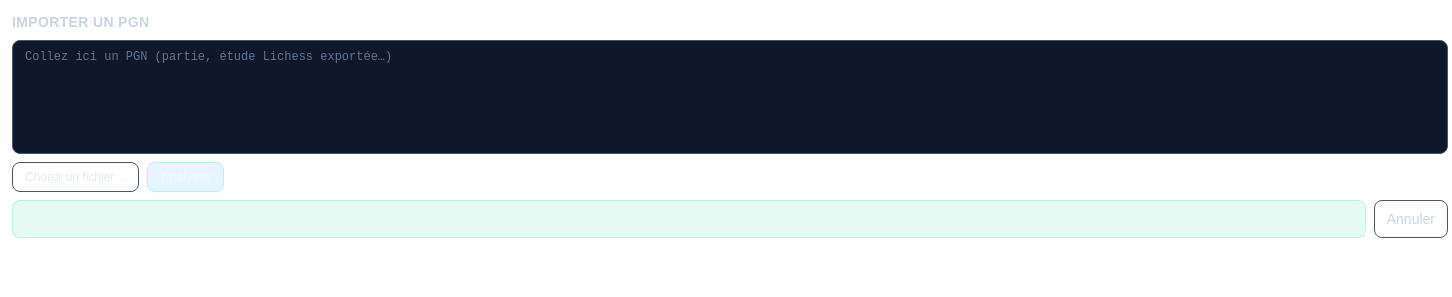
Test case: PgnImporter › analyse le texte collé, affiche le rapport puis confirme avec l'arbre analysé
The image size is (1452, 297).
Later steps or results of the test are not shown.
Type "[Event \"Mon 1.e4\"] [Orientation \"black\"] 1. e4 e5 (1... c5 2. Nf3) 2. Nf3 Nc6 *" into the text box named "Texte PGN" at (730,97), box [12,40,1448,154]
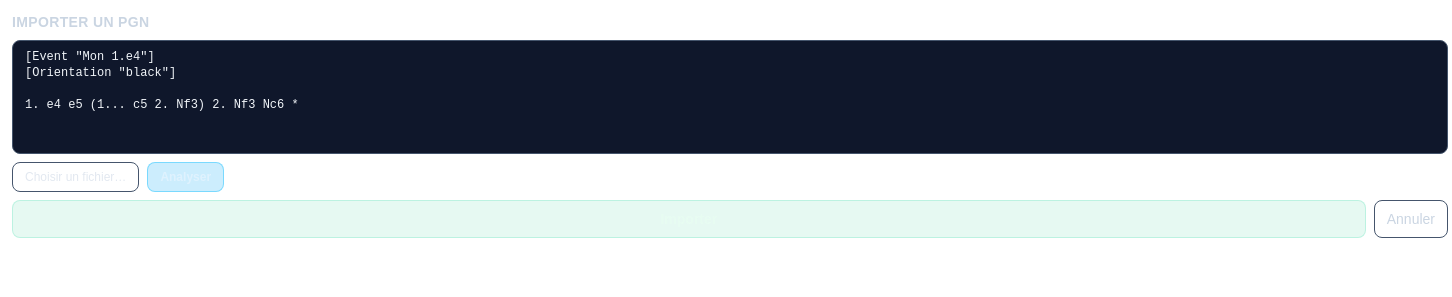
Click the button "Analyser" at (186,177), box [147,162,224,192]
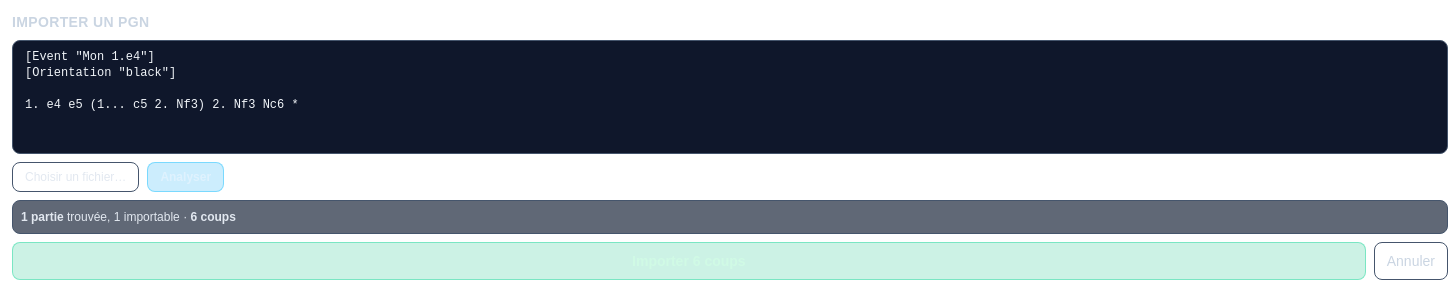
Check: the text "1 partie" is shown, box [21,210,64,224]
Check: the button "Importer 6 coups" is shown, box [12,242,1366,280]
